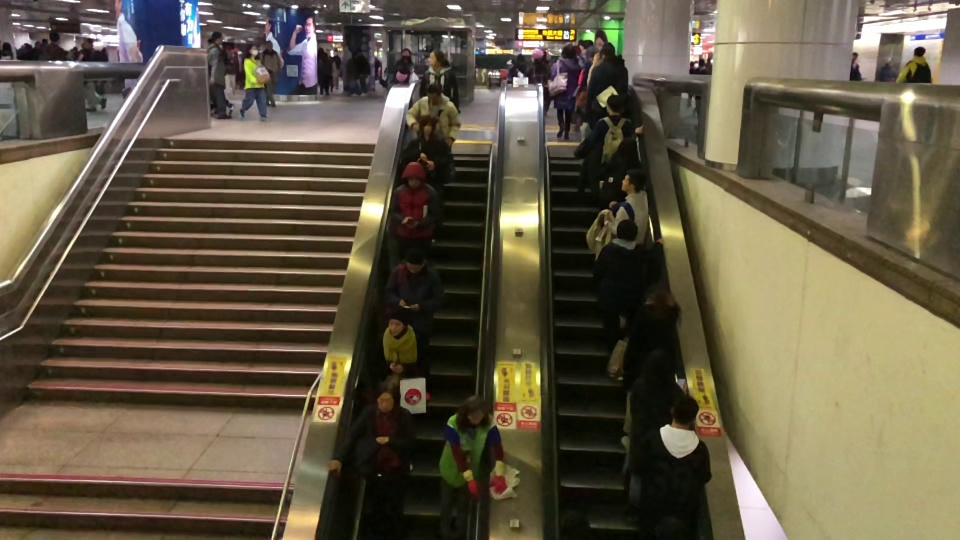person_head: (671, 394, 700, 427), (644, 349, 675, 377), (373, 379, 402, 408), (464, 394, 490, 426), (386, 307, 409, 338), (404, 162, 427, 191), (620, 167, 647, 191), (402, 246, 425, 273), (616, 218, 639, 241), (617, 136, 638, 157), (647, 282, 666, 303), (429, 48, 446, 69), (426, 81, 442, 103), (606, 93, 622, 115), (418, 115, 434, 134), (560, 43, 575, 59), (586, 45, 598, 61), (531, 47, 543, 61), (911, 46, 925, 58), (602, 46, 614, 59), (49, 31, 60, 45), (246, 43, 257, 57), (211, 31, 222, 44), (2, 41, 12, 52), (83, 38, 94, 48), (401, 47, 411, 58), (852, 50, 859, 63), (266, 40, 273, 50), (698, 58, 705, 66), (689, 59, 695, 68), (333, 48, 338, 55)
person_vbox: (326, 378, 417, 538), (618, 282, 684, 452), (638, 393, 713, 537), (438, 393, 510, 540), (382, 245, 446, 400), (628, 348, 687, 509), (593, 218, 663, 352), (371, 307, 425, 472), (401, 115, 455, 244), (385, 162, 441, 270), (590, 93, 644, 165), (406, 81, 461, 149), (585, 46, 629, 130), (607, 168, 649, 246), (419, 48, 461, 114), (550, 43, 578, 142), (600, 137, 640, 206), (238, 42, 270, 121), (207, 32, 231, 121), (79, 39, 107, 112), (894, 45, 931, 84), (261, 40, 281, 109), (523, 47, 551, 87), (393, 46, 418, 83), (38, 30, 67, 61), (686, 60, 695, 108), (332, 49, 342, 91), (849, 50, 862, 81), (696, 57, 710, 75), (0, 41, 13, 59)
